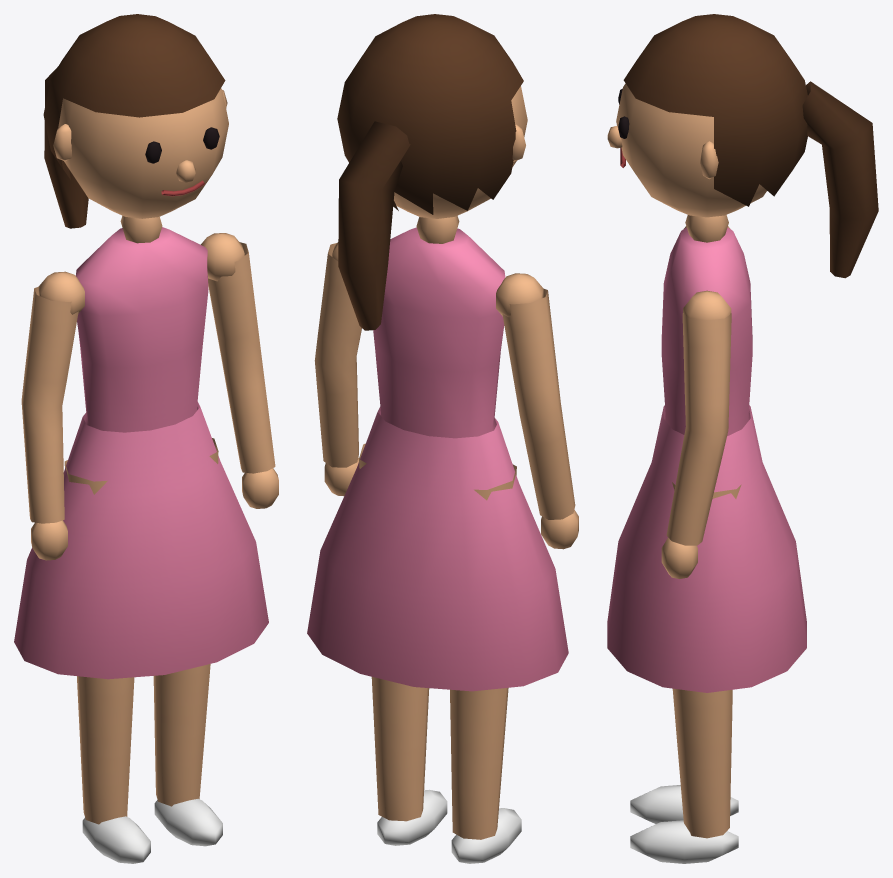
The model's file is Guest_Girl.obj.
3 views of the same model, side by side, from view 1: azimuth 30°, elevation 25°; view 2: azimuth 150°, elevation 25°; view 3: azimuth 270°, elevation 25° (orthographic). The views are drawn at different scales.
Parts seen in each view (by area): view 1: Torso, Head, ArmR, ArmL, LegR, LegL; view 2: Torso, Head, ArmR, LegR, LegL, ArmL; view 3: Torso, Head, ArmL, LegL, LegR.
Part boxes in pixels (<box>): Torso: <box>14,215,268,679</box>; Head: <box>43,14,228,228</box>; ArmR: <box>21,271,84,560</box>; ArmL: <box>200,233,278,508</box>; LegR: <box>64,460,150,863</box>; LegL: <box>153,438,222,846</box>; Torso: <box>307,215,568,691</box>; Head: <box>337,14,527,330</box>; ArmR: <box>496,273,578,549</box>; LegR: <box>450,464,521,863</box>; LegL: <box>359,443,447,845</box>; ArmL: <box>314,242,361,496</box>; Torso: <box>607,215,806,692</box>; Head: <box>607,14,878,278</box>; ArmL: <box>661,290,731,578</box>; LegL: <box>630,482,741,863</box>; LegR: <box>630,785,738,823</box>.
Size of the model in its own units: 0.3878 by 1.23 by 0.3685.
Materials: 1 (1 with a texture image).
